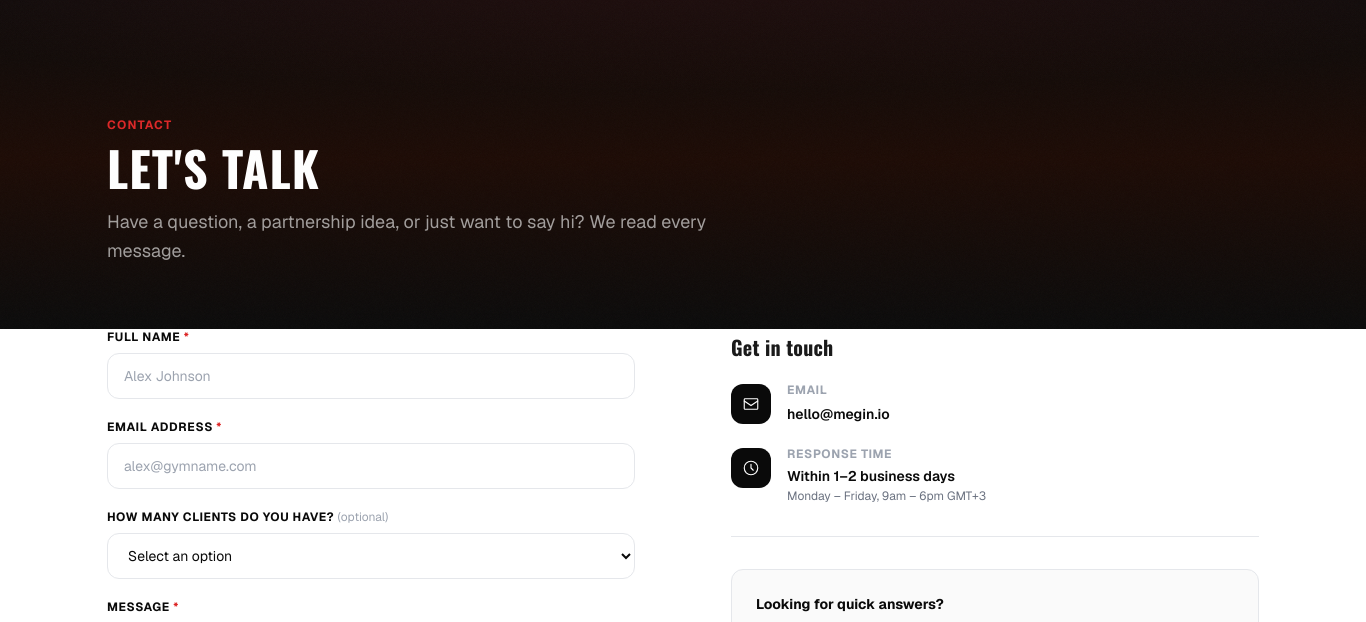
Test: ContactForm › shows success message after form submission
Type "Jane Smith" into the field labelled "Full Name *".
click(371, 376); type("Jane Smith")  # box x1=107 y1=353 x2=635 y2=399
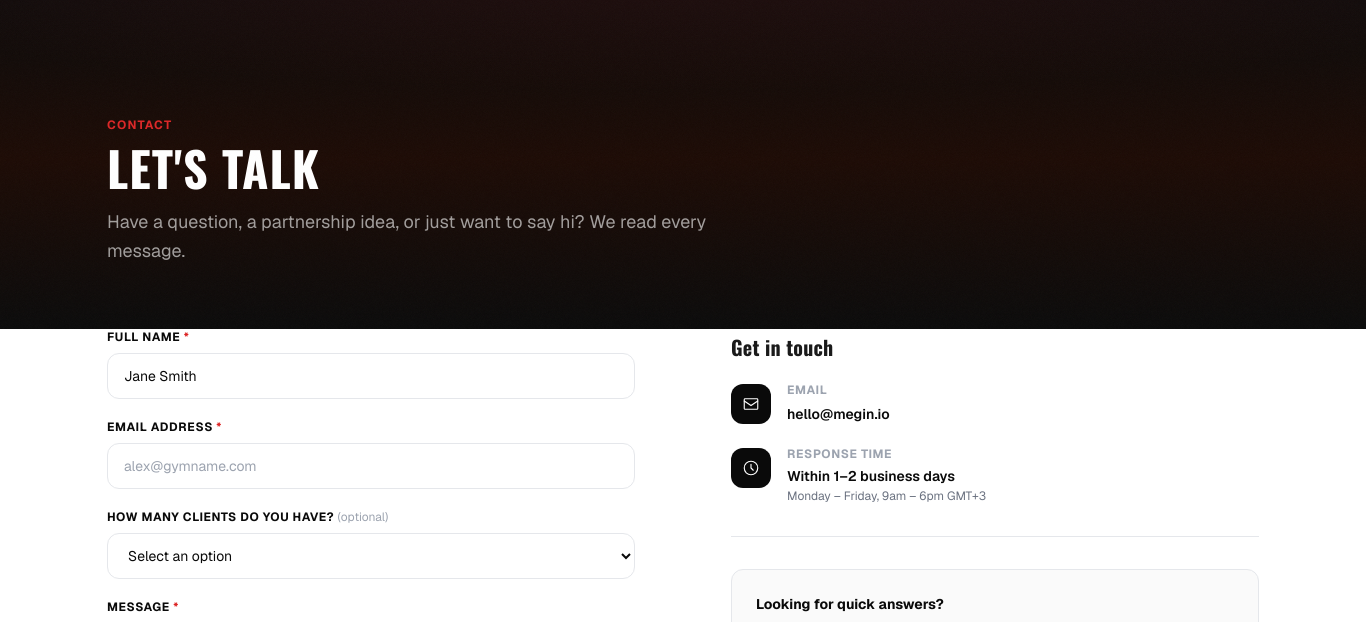
Type "jane@gym.com" into the field labelled "Email Address *".
click(371, 466); type("jane@gym.com")  # box x1=107 y1=443 x2=635 y2=489
(page scrolled)
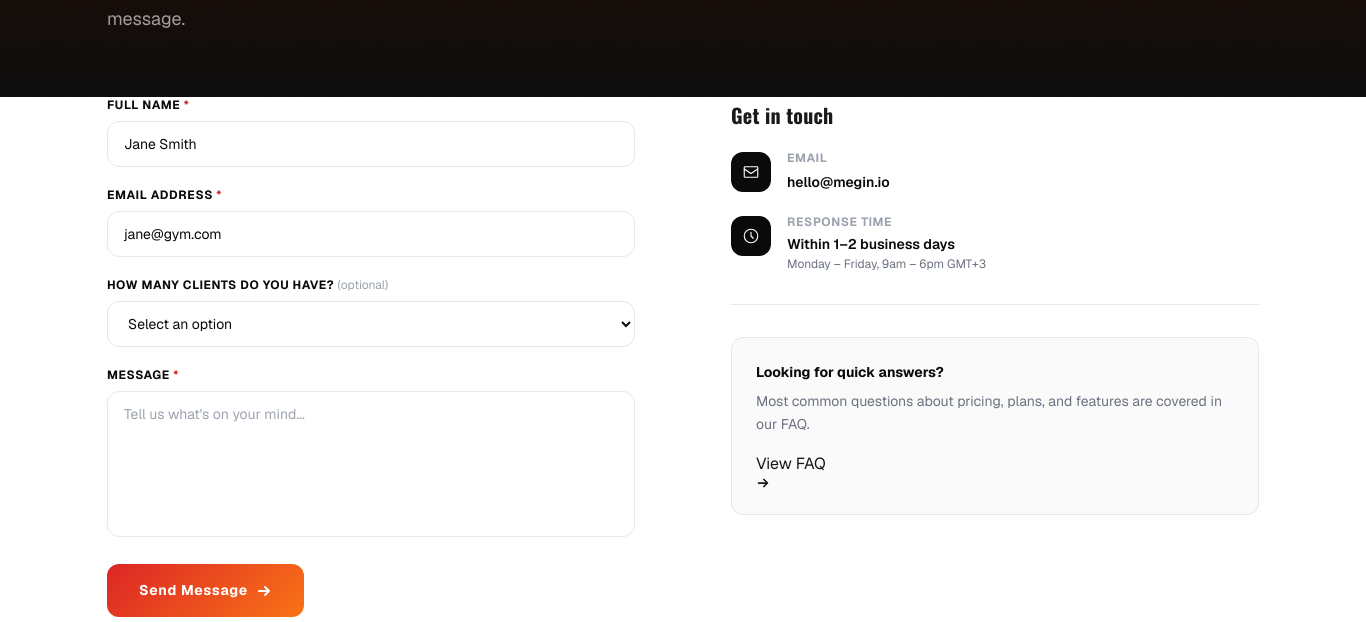
Type "Hello there!" into the text box labelled "Message *".
click(371, 464); type("Hello there!")  # box x1=107 y1=391 x2=635 y2=537
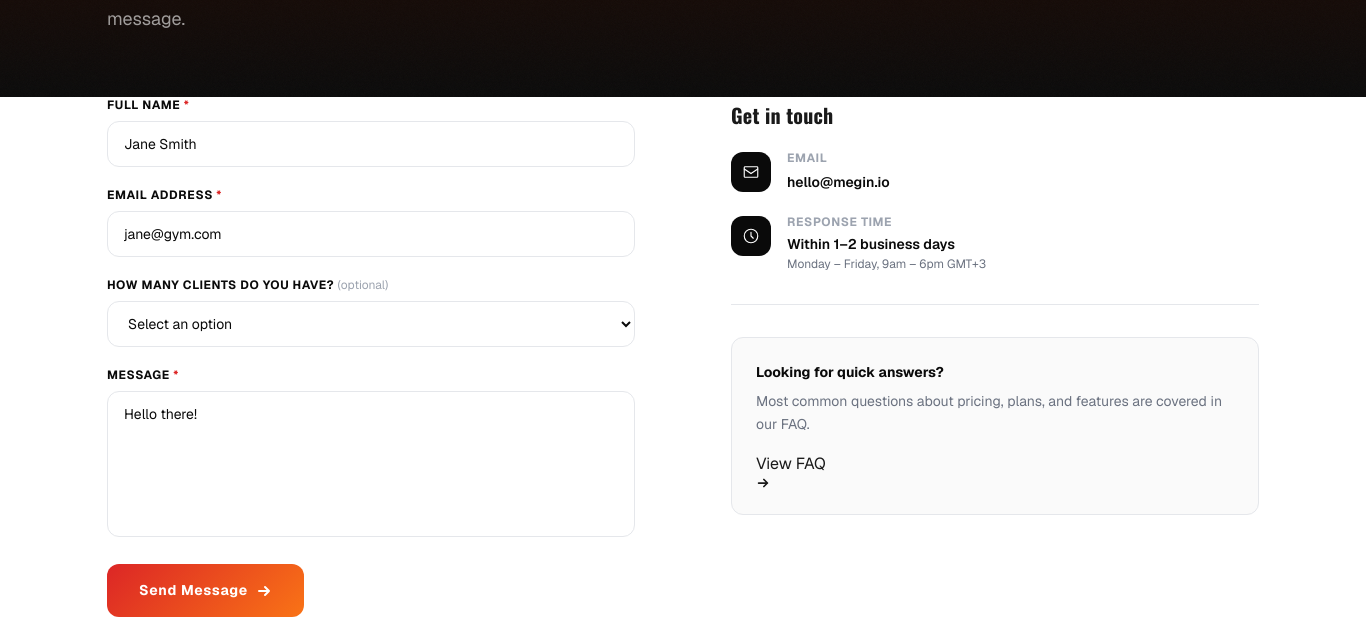
Submit the form named "send message", box x1=107 y1=97 x2=635 y2=617
(page scrolled)
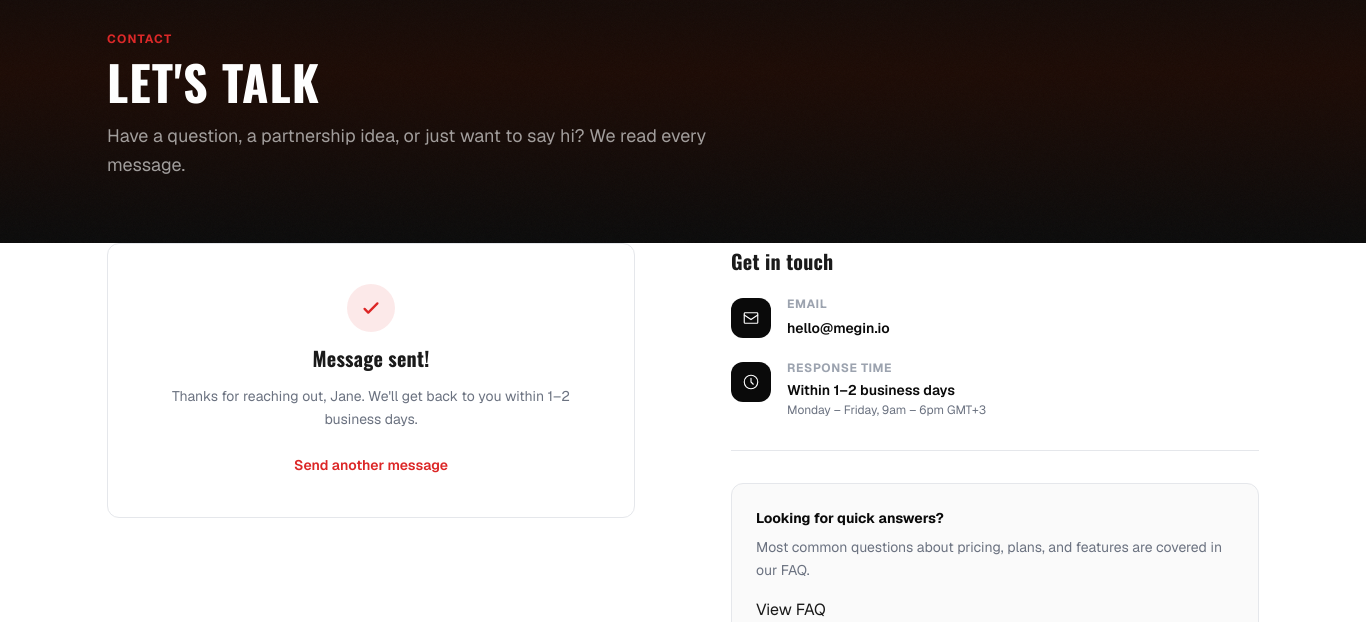
Now the heading "Message sent!" is shown, box x1=312 y1=343 x2=430 y2=373
Now the text "Thanks for reaching out, Jane" is shown, box x1=172 y1=387 x2=570 y2=428
